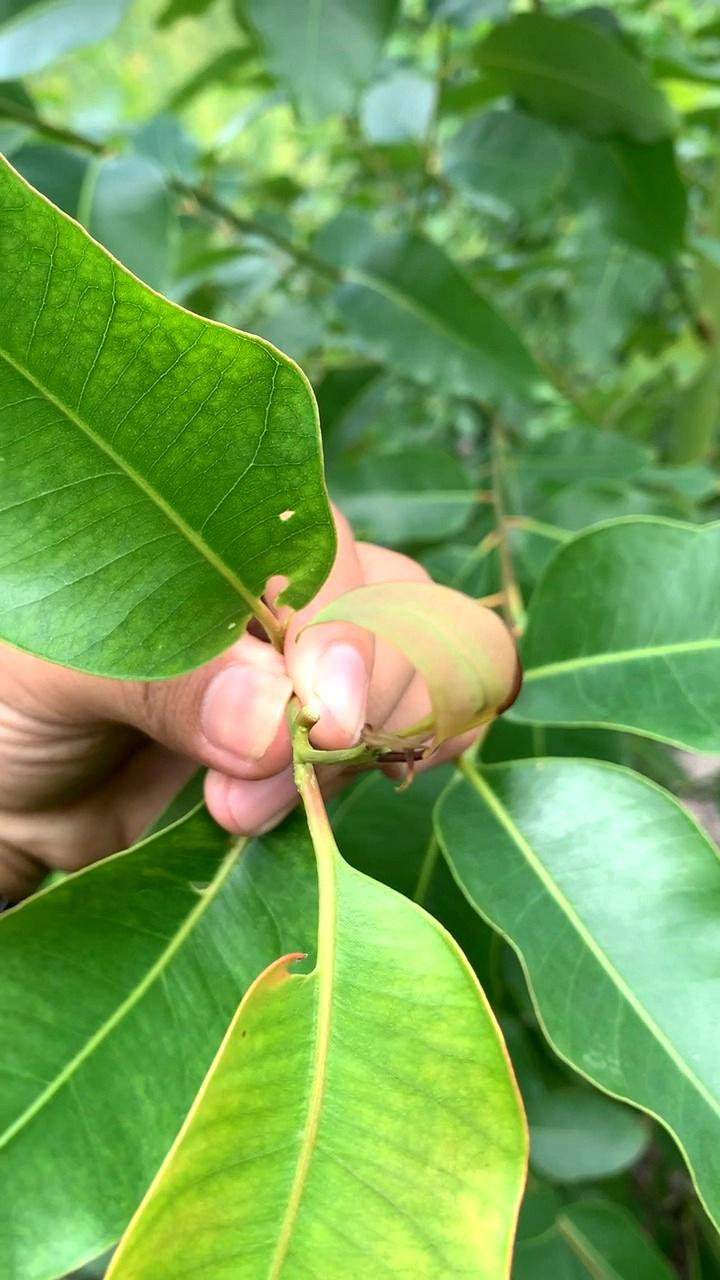Helopeltis-Withered Sprout: (286, 569, 531, 785)
